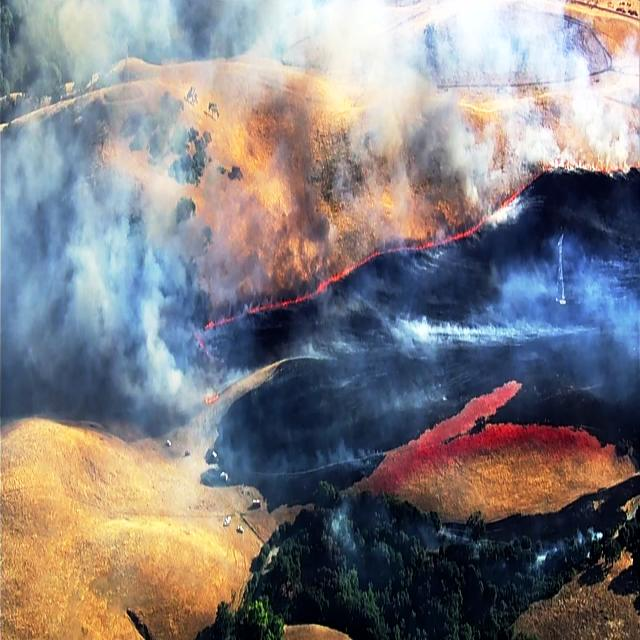api: (197, 169, 545, 343)
asap: (1, 1, 250, 454), (323, 1, 518, 226), (431, 1, 640, 197), (387, 241, 640, 396)
